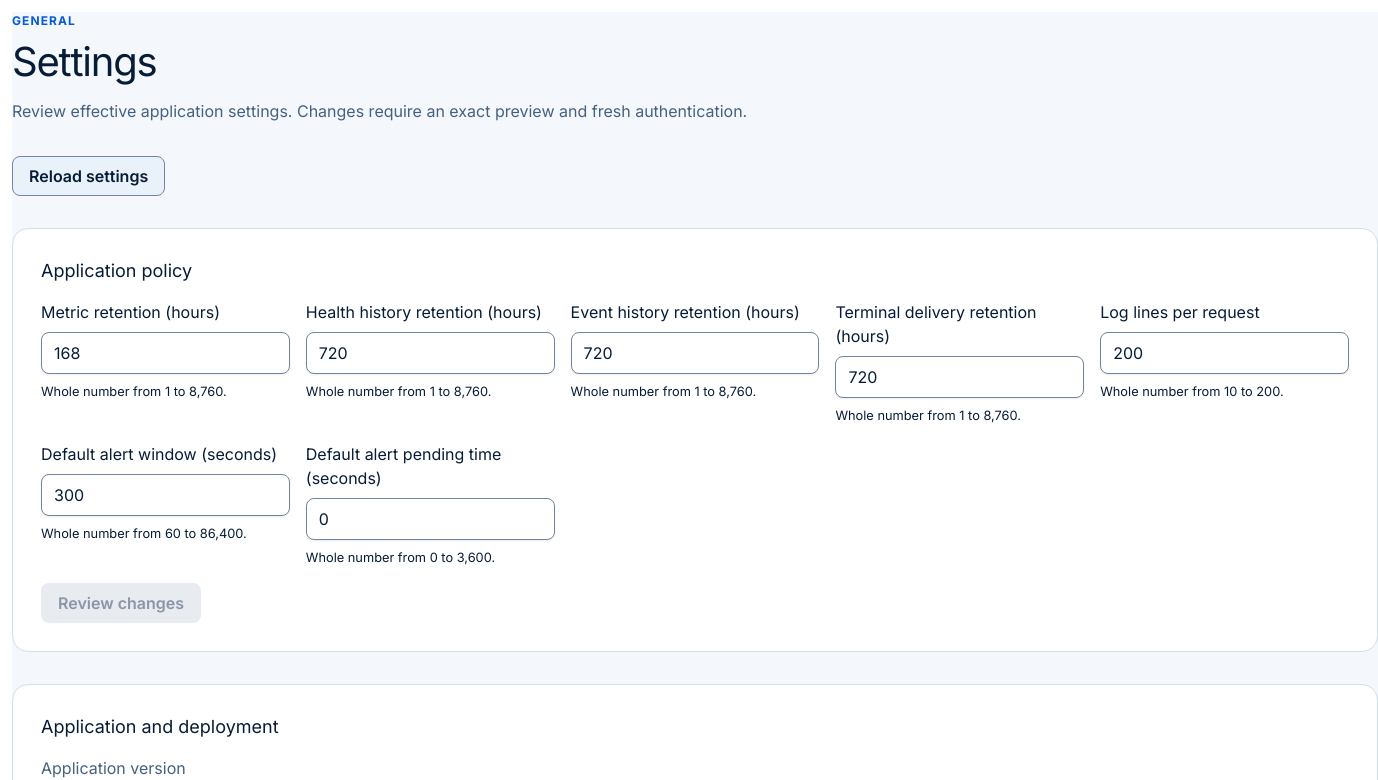
application settings and destructive reviews › rejects invalid numeric input before a preview request
Replace the text in the number field labelled "Metric retention (hours)" with "0": (165, 353) x1=41 y1=332 x2=290 y2=374
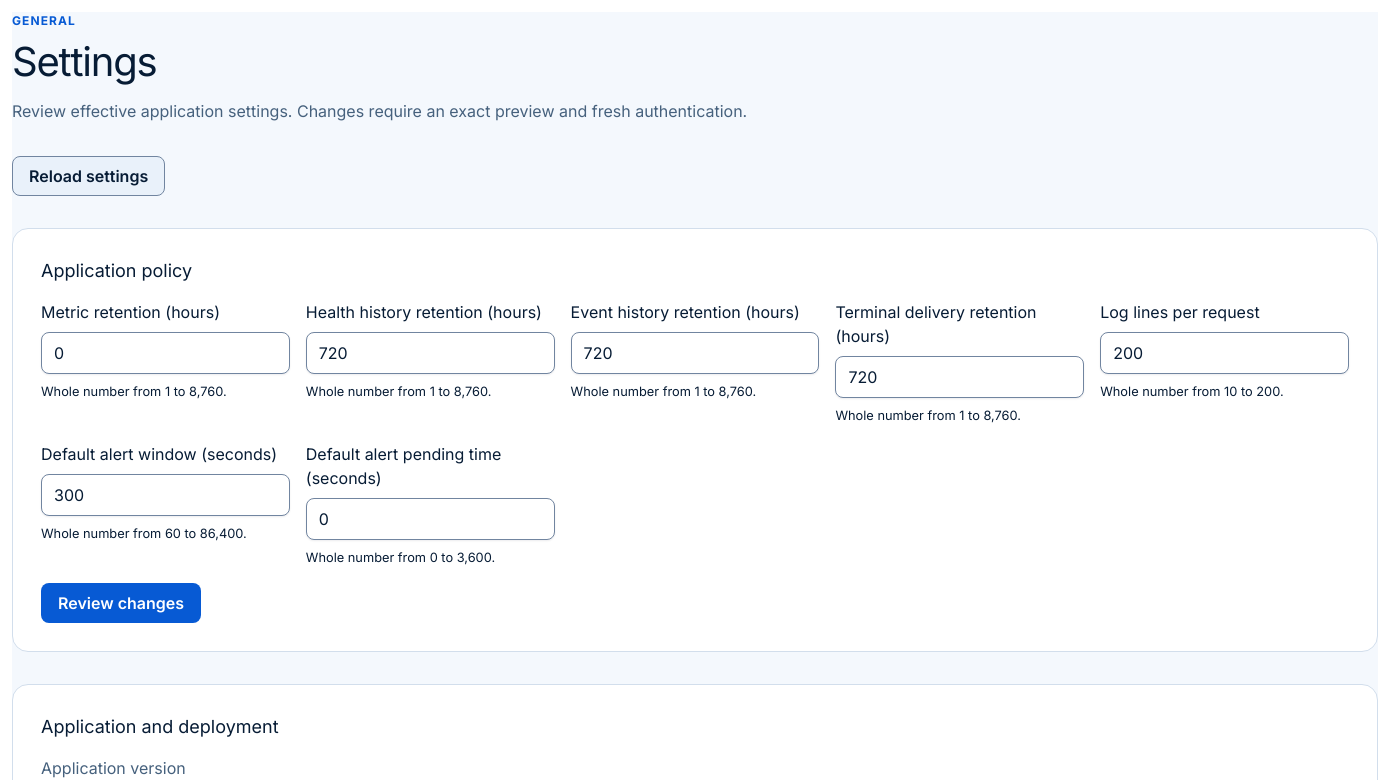
Click the button "Review changes": (121, 603) x1=41 y1=583 x2=201 y2=623
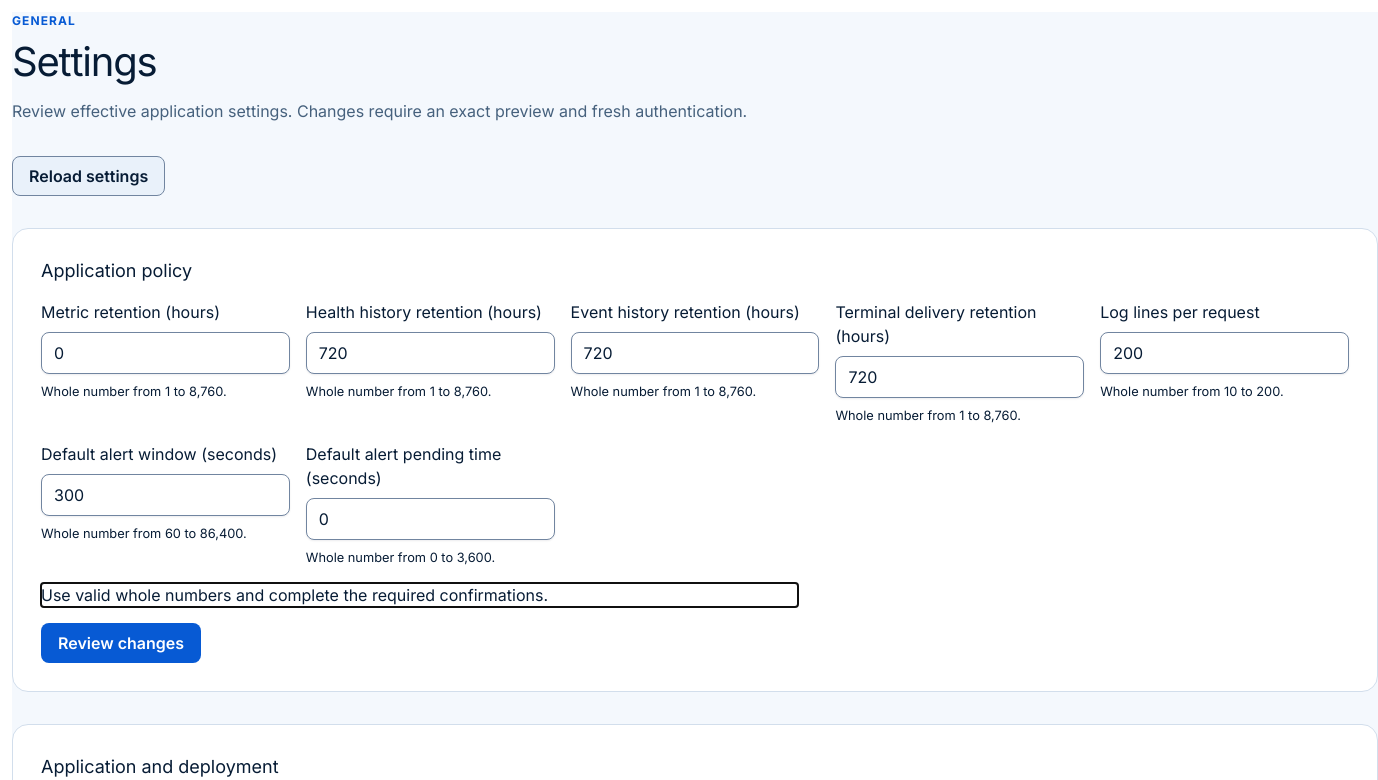
Expected: the message shows "valid whole numbers", x1=41 y1=585 x2=548 y2=605
